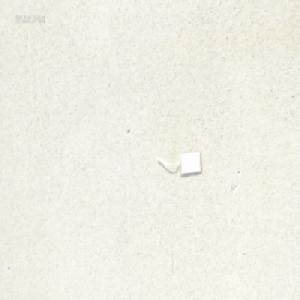LuggageTag: (155, 149, 201, 175)
